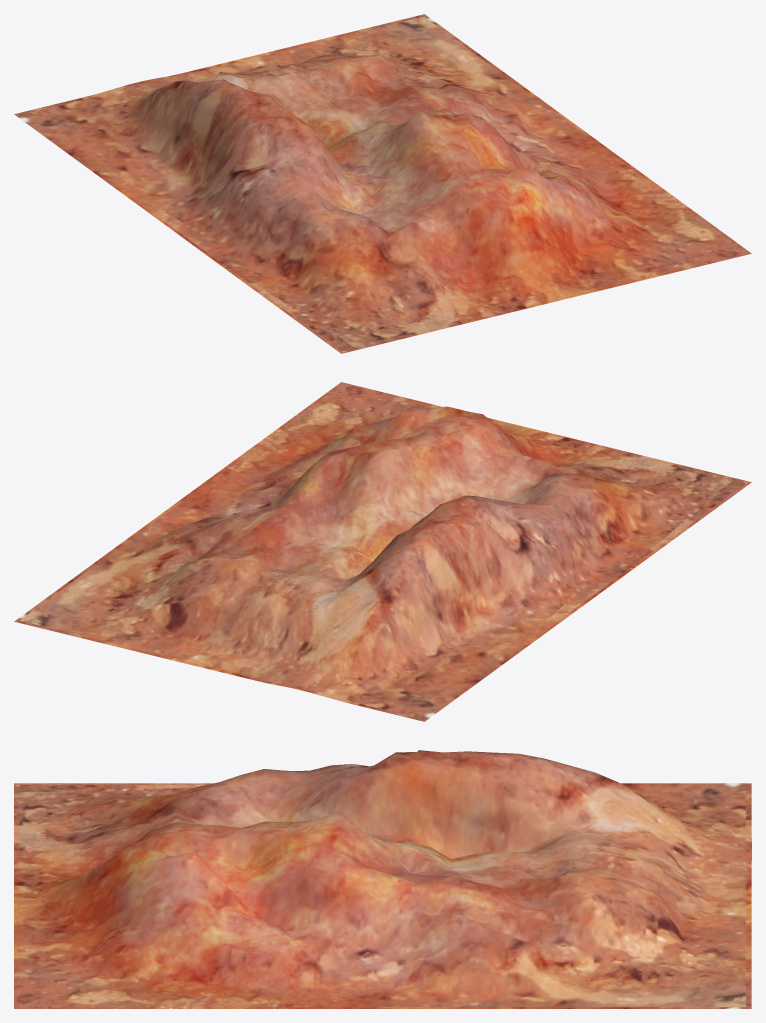
The model's file is red_cliff.glb.
3 views of the same model, one above another, from view 1: azimuth 30°, elevation 25°; view 2: azimuth 150°, elevation 25°; view 3: azimuth 270°, elevation 25° (orthographic). The views are drawn at different scales.
Visible parts, largest first — view 1: Plane; view 2: Plane; view 3: Plane.
Boxes of the visible parts, bbox=[...] form: Plane: bbox=[14, 14, 751, 353]; Plane: bbox=[14, 382, 751, 721]; Plane: bbox=[14, 750, 751, 1008].
Size of the model in its own units: 5.07 by 0.9786 by 7.
1 material, 1 textured.
